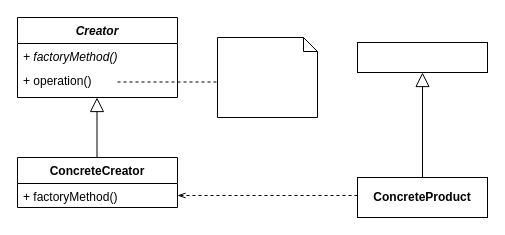
Some shapes in this 505 by 235 pixel diagram are drawn without their labels. The shapes that lost their labels are listed below. From the top down, each one's centre as x and y in pixels, then its label:
At pixel 267 77: "{ ... factoryMethod() }".
At pixel 422 57: "Product".
